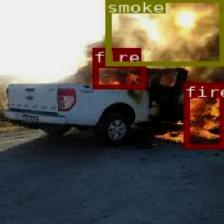fire: (182, 82, 224, 147), (92, 63, 145, 87)
smoke: (105, 0, 223, 64)
